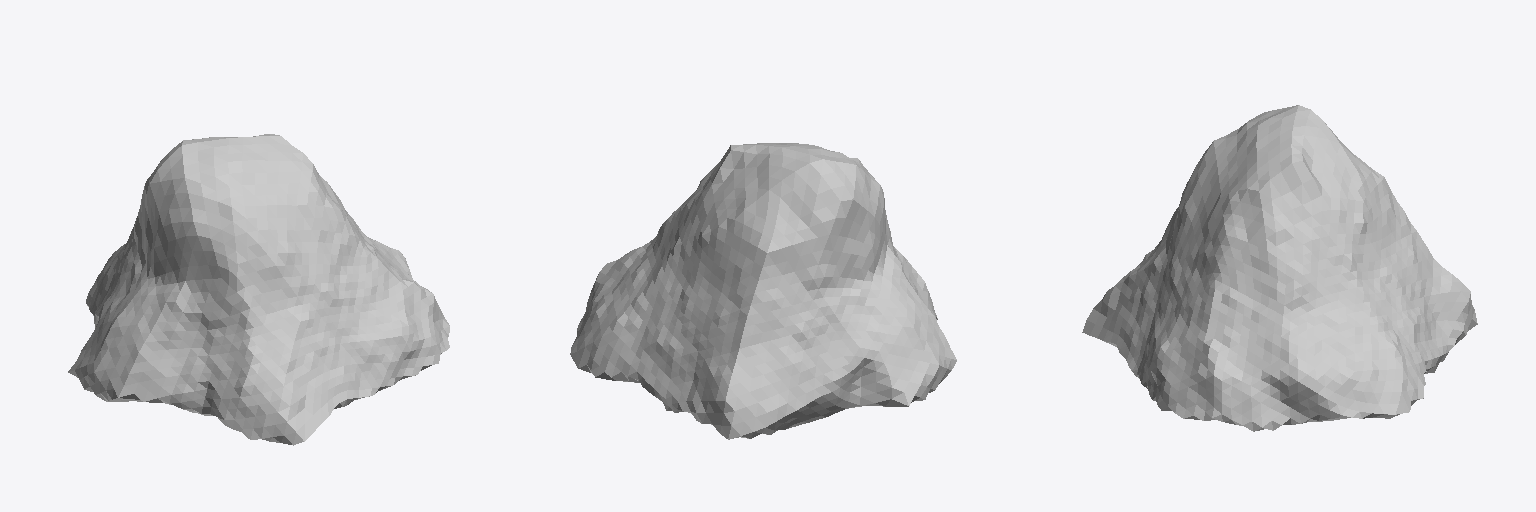
File: Rock3.obj
3 views of the same model, side by side, from view 1: azimuth 30°, elevation 25°; view 2: azimuth 150°, elevation 25°; view 3: azimuth 270°, elevation 25° (orthographic).
Parts seen in each view (by area): view 1: default; view 2: default; view 3: default.
Part boxes in pixels (x1,y1,x2,y2): default: (68,134,449,445); default: (570,143,956,439); default: (1082,105,1477,431).
Size of the model in its own units: 2.26 by 1.54 by 2.31.